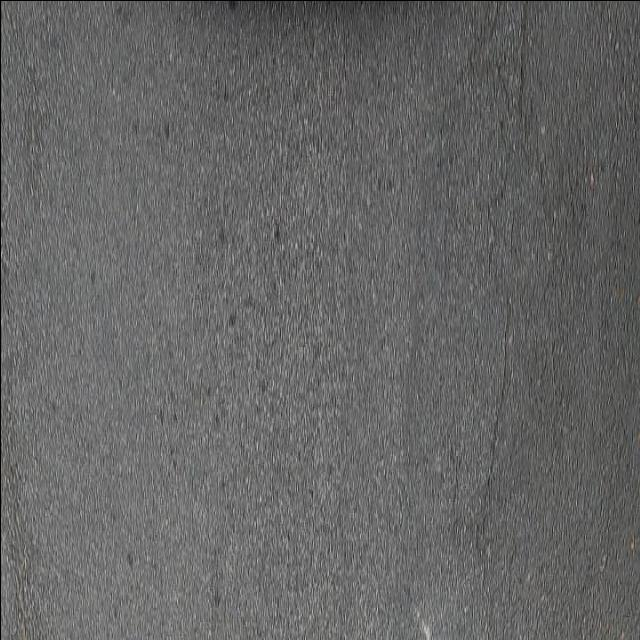zero: (1, 10, 447, 640)
